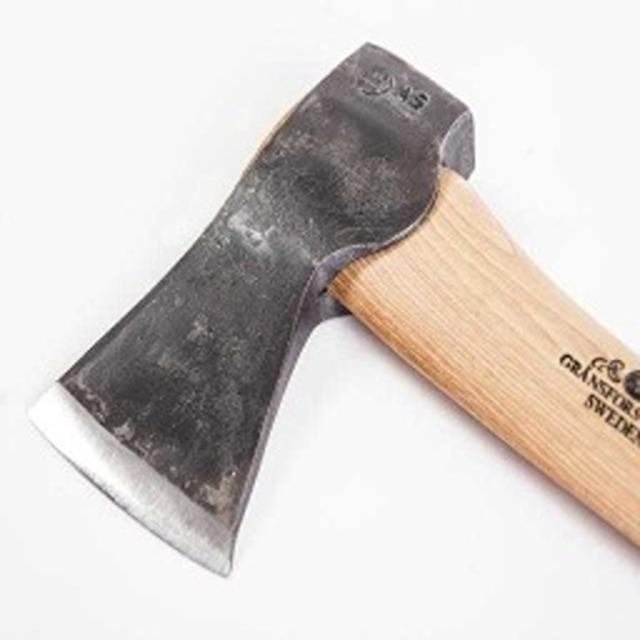ax: (18, 34, 640, 592)
